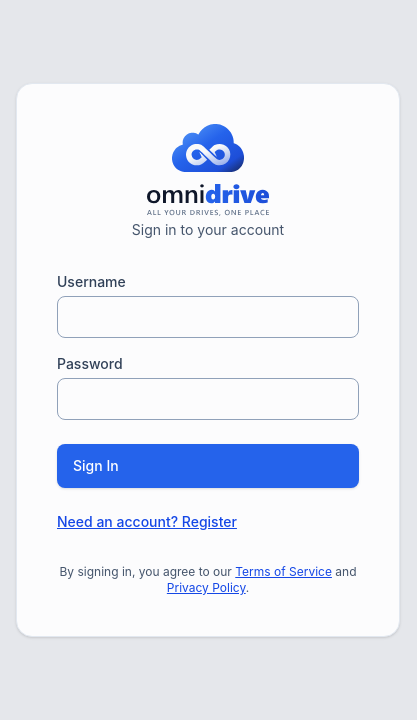
Test case: LoginPage › toggles back to login mode when "Already have an account? Sign in" clicked
# Switch to register mode first.
Click the button "Need an account? Register" at (147, 522), box x1=57 y1=512 x2=237 y2=532
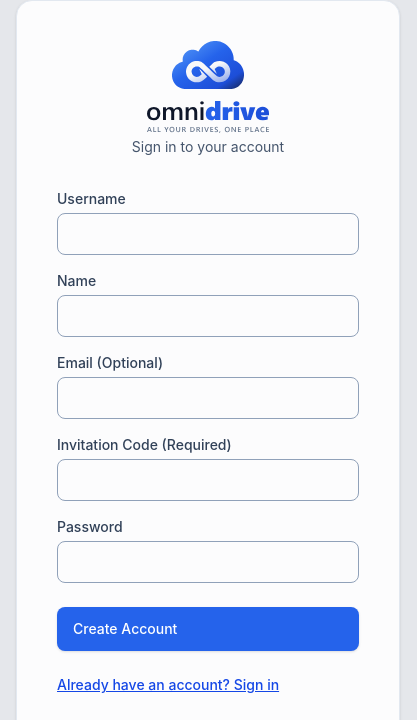
Expected: the field labelled "Name" is shown, x1=57 y1=295 x2=359 y2=337
# Switch back to login mode.
Click the button "Already have an account? Sign in" at (168, 685), box x1=57 y1=675 x2=279 y2=695
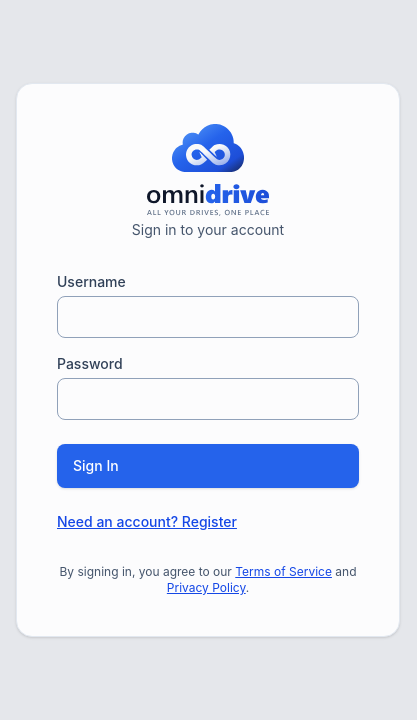
Expected: the label labelled "Email (Optional)" is gone
Expected: the label labelled "Invitation Code (Required)" is gone
Expected: the button "Sign In" is shown, x1=57 y1=444 x2=359 y2=488
